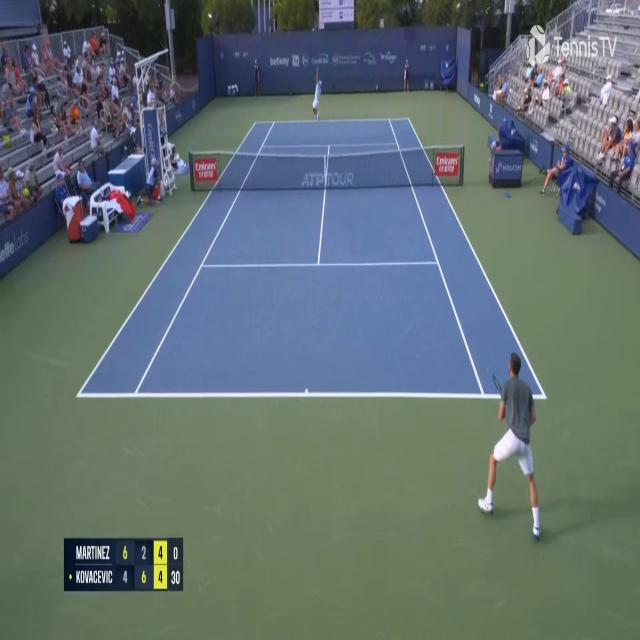tennis-player: (310, 65, 324, 119)
